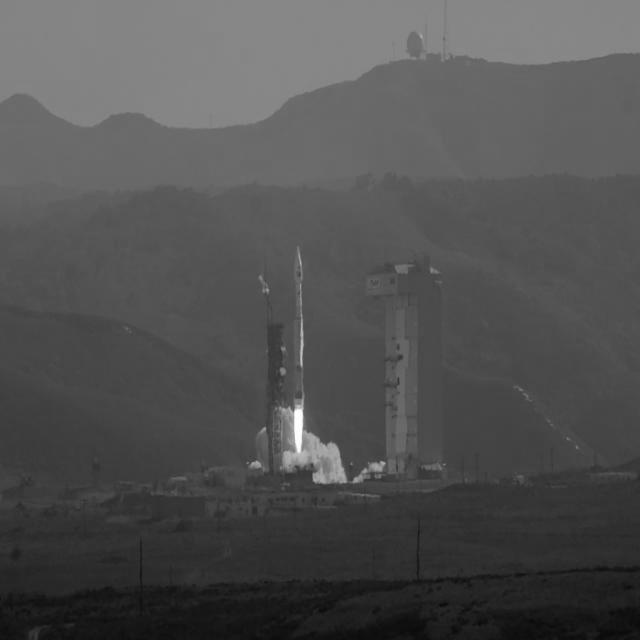missile: (286, 236, 309, 407)
